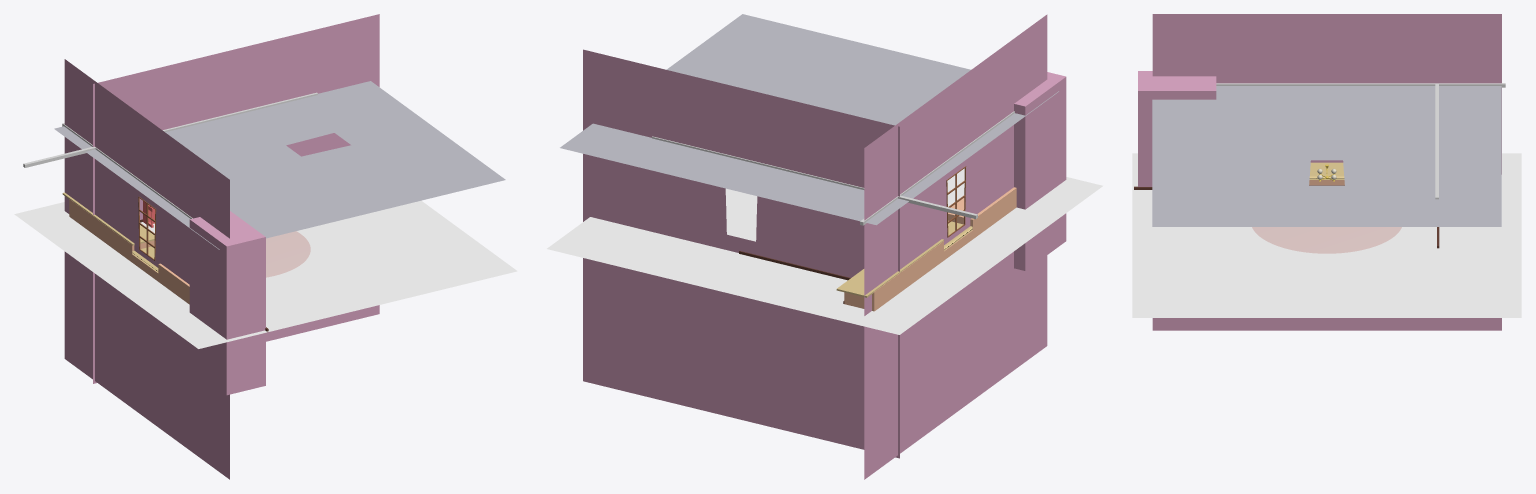
File: roomBS.glb
The picture shows the model from 3 angles, left to right: view 1: azimuth 30°, elevation 25°; view 2: azimuth 150°, elevation 25°; view 3: azimuth 270°, elevation 25°; orthographic projection. The views are drawn at different scales.
Visible parts, largest first — view 1: Plane.001, Plane.003, Plane, Plane.004, Cube.027, Cube.001, Cylinder, Cube.025; view 2: Plane.004, Plane.001, Plane.003, Plane, Cube.027, Cube.001, Cube.025, Cube.003; view 3: Plane.003, Plane, Plane.001, Cube.027, Cylinder, Cube.023, Cube.002, Cube.025.
Part boxes in pixels (left/top/right/bottom): Plane.001: left=64, top=59, right=229, bottom=479; Plane.003: left=54, top=81, right=505, bottom=249; Plane: left=14, top=200, right=517, bottom=348; Plane.004: left=93, top=14, right=379, bottom=383; Cube.027: left=189, top=211, right=265, bottom=395; Cube.001: left=69, top=199, right=189, bottom=304; Cylinder: left=266, top=231, right=310, bottom=277; Cube.025: left=23, top=92, right=317, bottom=167; Plane.004: left=583, top=49, right=899, bottom=458; Plane.001: left=864, top=14, right=1047, bottom=479; Plane.003: left=560, top=14, right=1058, bottom=225; Plane: left=547, top=168, right=1102, bottom=334; Cube.027: left=1014, top=72, right=1066, bottom=270; Cube.001: left=844, top=187, right=1016, bottom=311; Cube.025: left=652, top=136, right=977, bottom=219; Cube.003: left=836, top=239, right=944, bottom=297; Plane.003: left=1152, top=86, right=1501, bottom=226; Plane: left=1132, top=153, right=1521, bottom=317; Plane.001: left=1152, top=14, right=1501, bottom=330; Cube.027: left=1138, top=71, right=1216, bottom=186; Cylinder: left=1252, top=227, right=1401, bottom=253; Cube.023: left=1216, top=83, right=1505, bottom=87; Cube.002: left=1309, top=162, right=1344, bottom=179; Cube.025: left=1435, top=84, right=1438, bottom=199.
Bounding box in the file's own units: 25.85 × 21 × 23.2.
